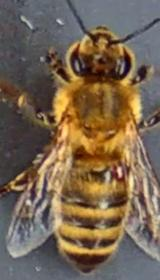varroa_mite: (104, 155, 136, 184)
